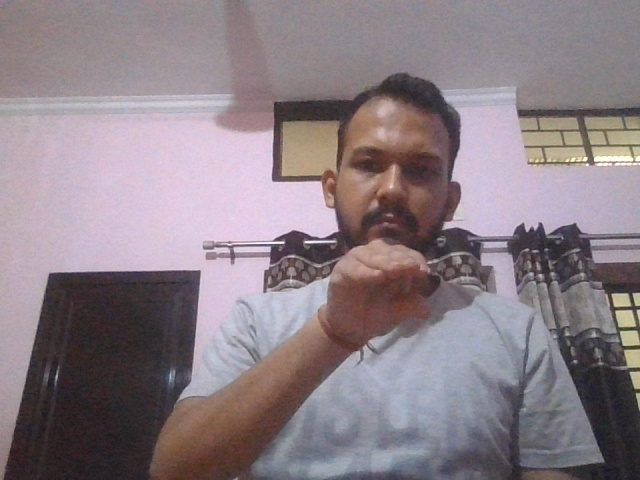no: (327, 238, 433, 342)
